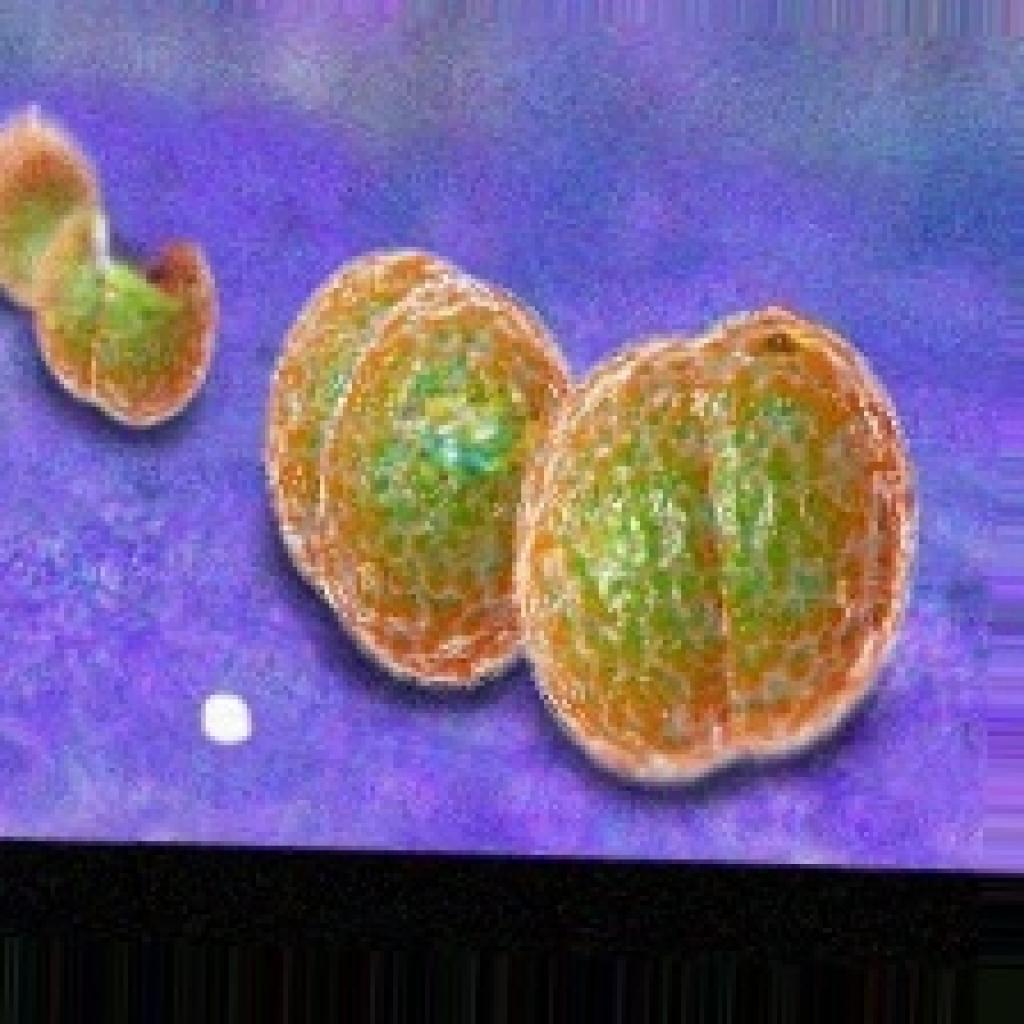Sphericalbacteria: (512, 302, 919, 786), (260, 242, 572, 690)
